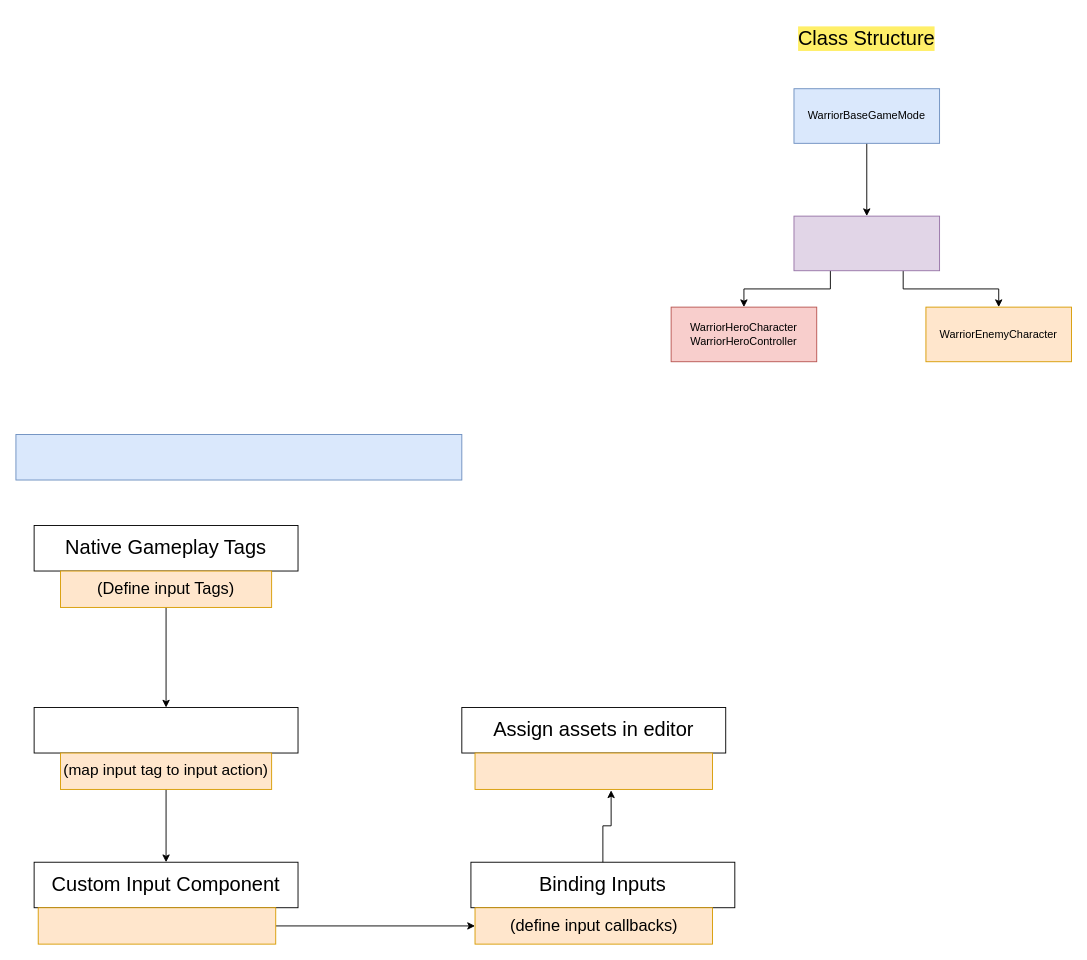
The diagram is 1087 pixels wide and 960 high, and some of its shapes have lost their labels. The shapes that lost their labels are listed below. From the top down, each one's box as (x1, y1, x2, y2) in pixels, then its label:
(793, 215, 940, 271): WarriorBaseCharacter
(15, 434, 462, 480): Native Gameplay Tags - Input Binding Process
(33, 707, 298, 753): Input Config Data Asset
(474, 752, 713, 789): (Fill in assets needed in editor)
(37, 907, 276, 944): (define input binding methods)
